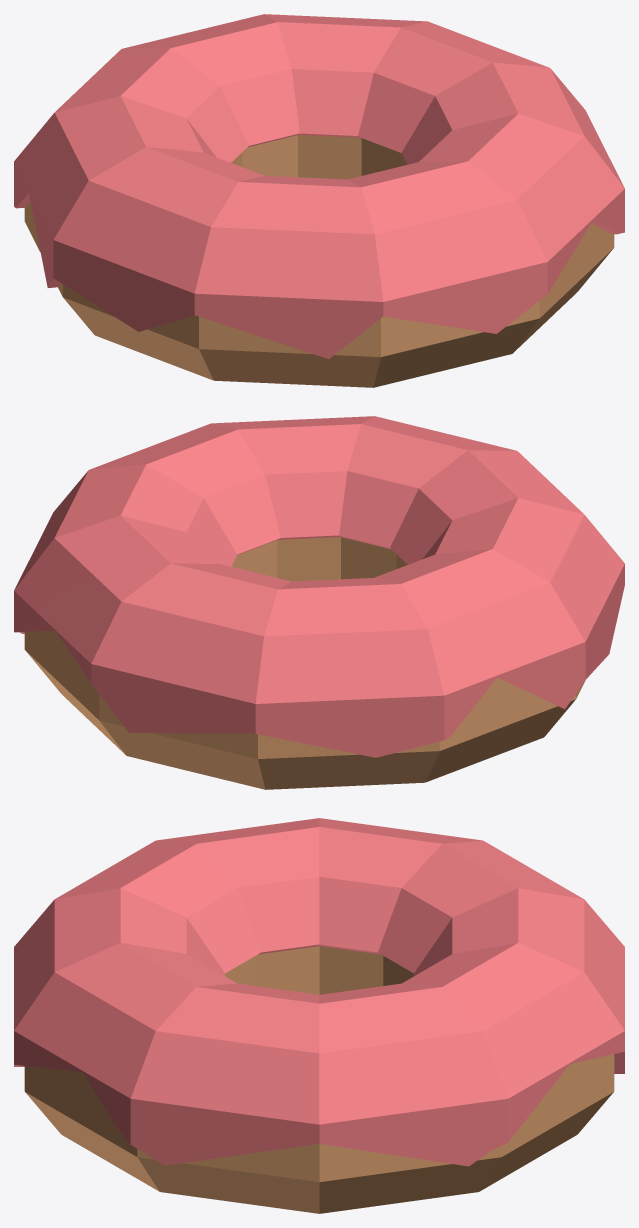
The model's file is donut.gltf.
The picture shows the model from 3 angles, top to bottom: view 1: azimuth 30°, elevation 25°; view 2: azimuth 150°, elevation 25°; view 3: azimuth 270°, elevation 25°; orthographic projection. The views are drawn at different scales.
Visible parts, largest first — view 1: model1.334, model1.335; view 2: model1.334, model1.335; view 3: model1.334, model1.335.
Boxes of the visible parts, box(x1,y1,x2,y2) form: model1.334: box(14, 14, 624, 358); model1.335: box(24, 135, 614, 387); model1.334: box(14, 416, 624, 757); model1.335: box(24, 537, 585, 789); model1.334: box(14, 818, 624, 1166); model1.335: box(24, 946, 614, 1213).
Bounding box in the file's own units: 2.47 × 0.859 × 2.35.
